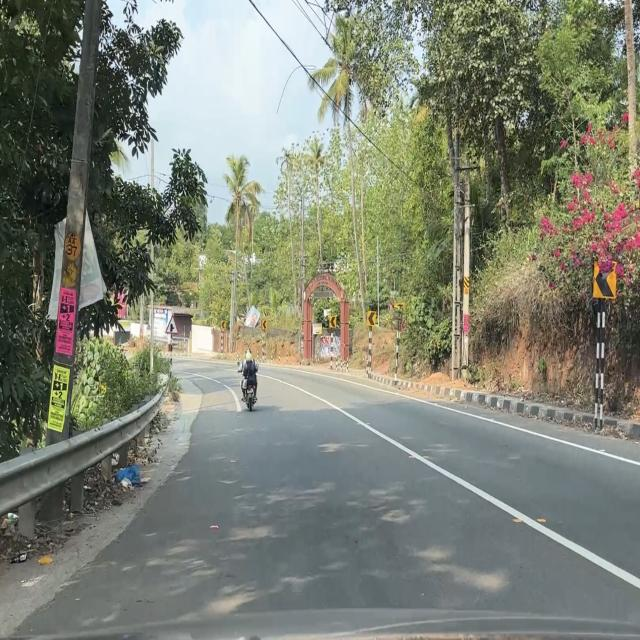SIDE_ROAD_RIGHT: (165, 314, 179, 334)
TURN_LEFT: (592, 260, 618, 300), (367, 311, 376, 326), (329, 316, 336, 328), (262, 320, 268, 329)
